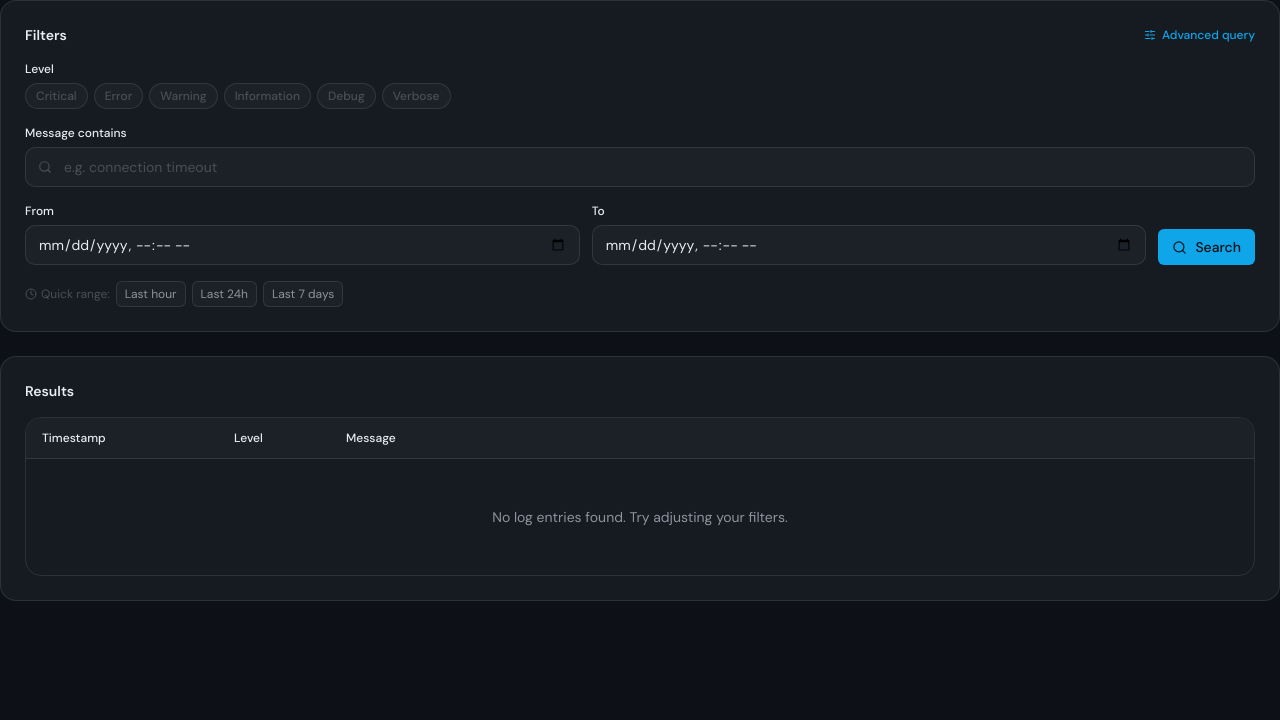
Scenario: AnalyticsPage › koristi napredni upit kada je ukljucen
The width and height of the screenshot is (1280, 720).
Click the button "Advanced query". click: (1200, 35)
box: [1144,27,1255,43]
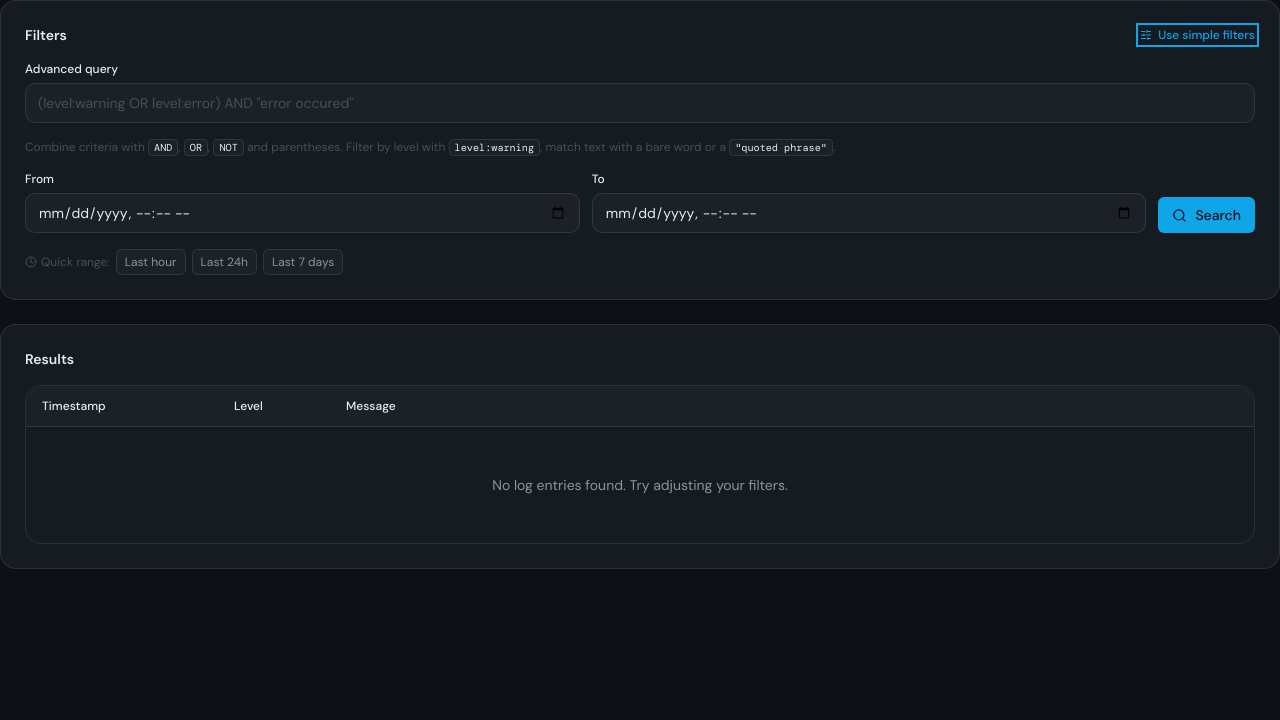
Type "(level:warning OR level:error) AND \"boom\"" into the field labelled "Advanced query". click: (640, 103)
box: [26,84,1254,122]
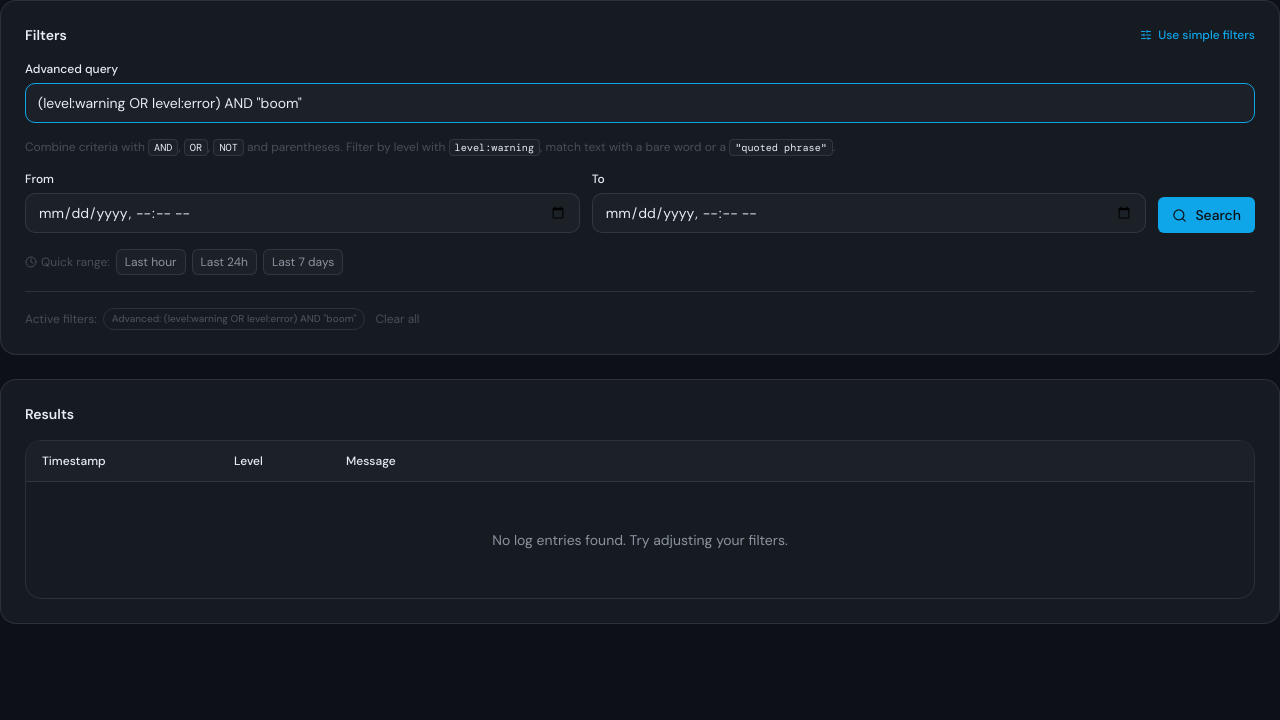
Click the button "Search". click: (1207, 215)
box: [1158,197,1255,233]
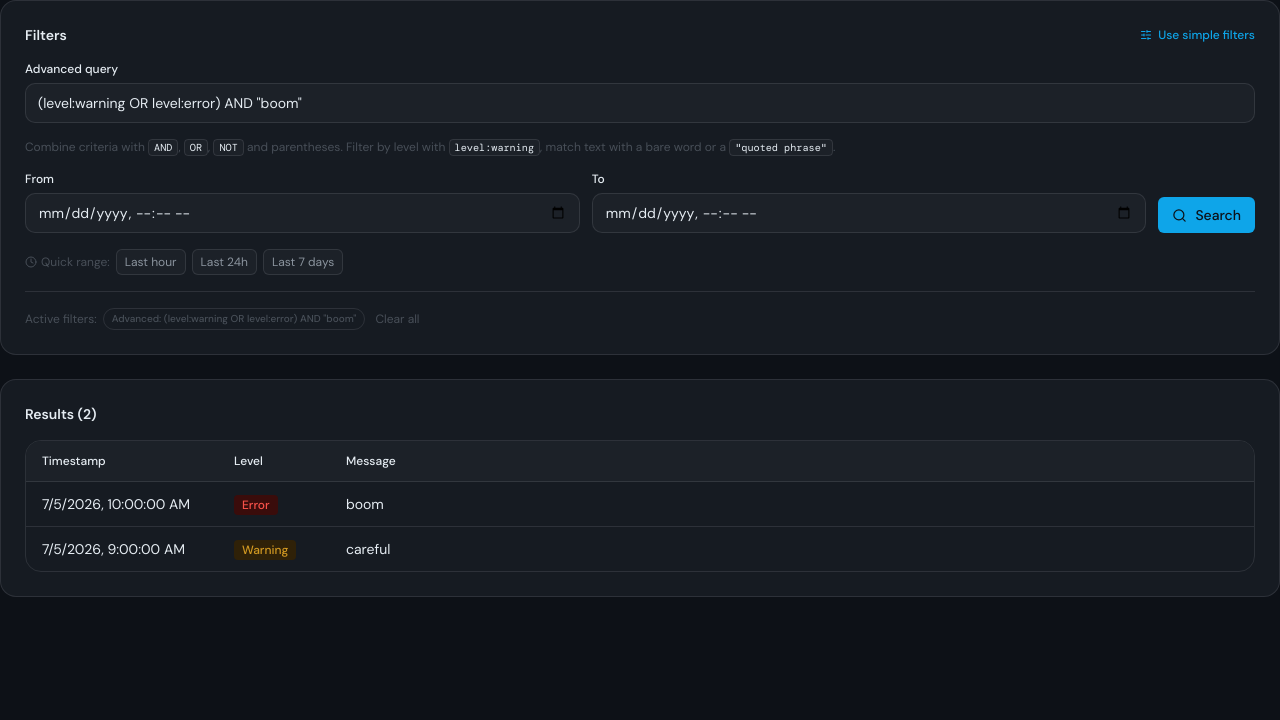
Expected: the text "boom" is shown, [346,495,384,513]
Expected: the text "careful" is shown, [346,540,390,558]
Expected: the heading "Results (2)" is shown, [25,405,97,423]
